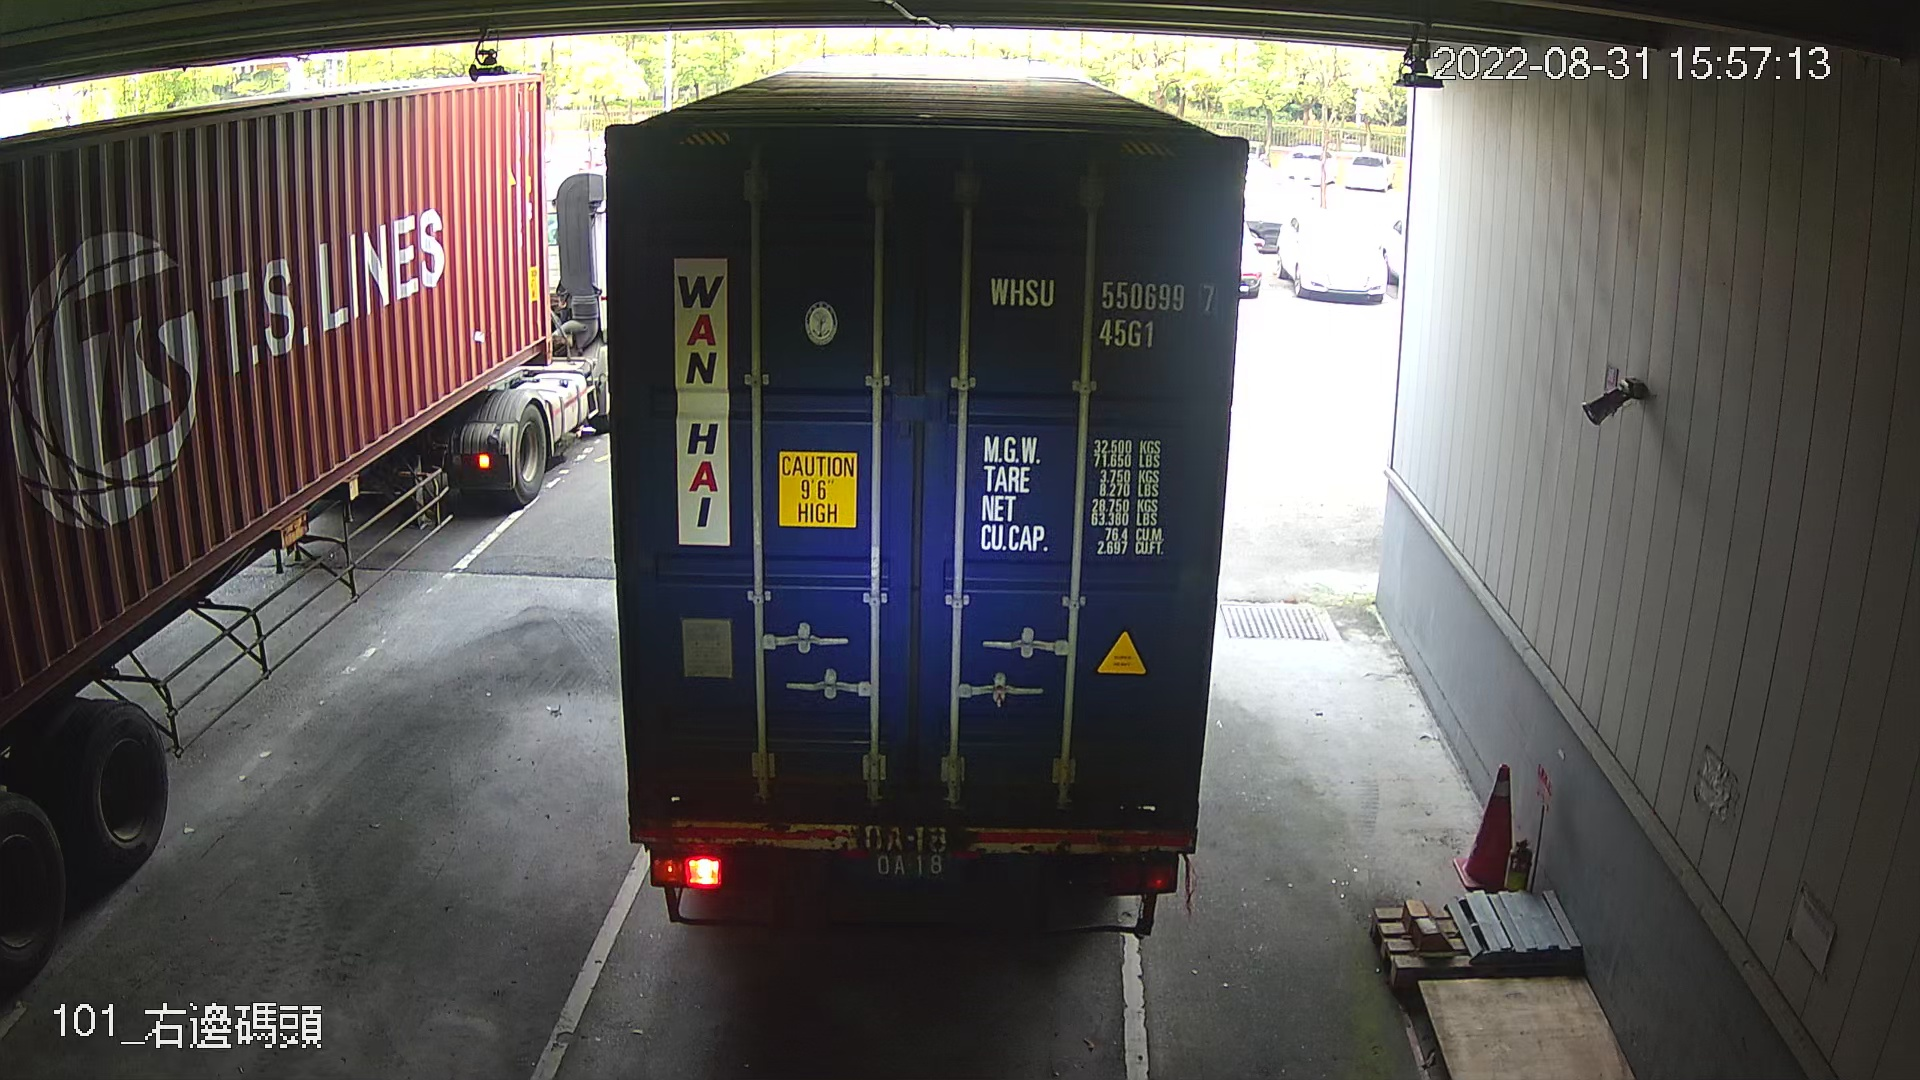container: (969, 266, 1228, 353)
